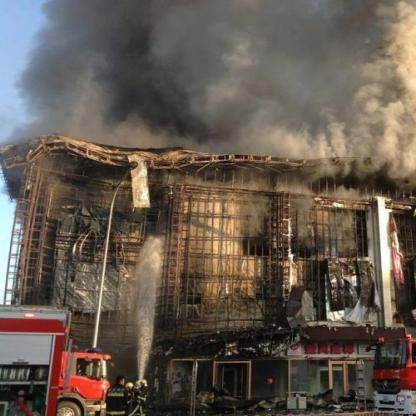smoke: (28, 72, 289, 150), (46, 0, 290, 72), (292, 76, 413, 154), (290, 1, 413, 76)
